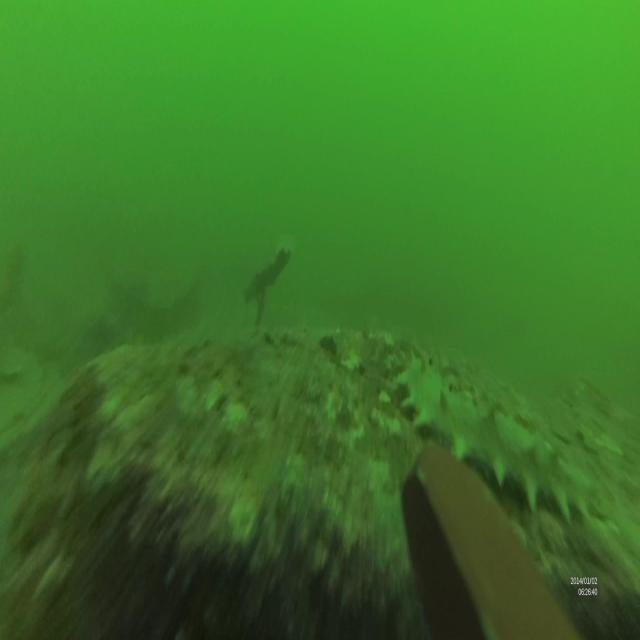holothurian: (398, 342, 593, 516)
